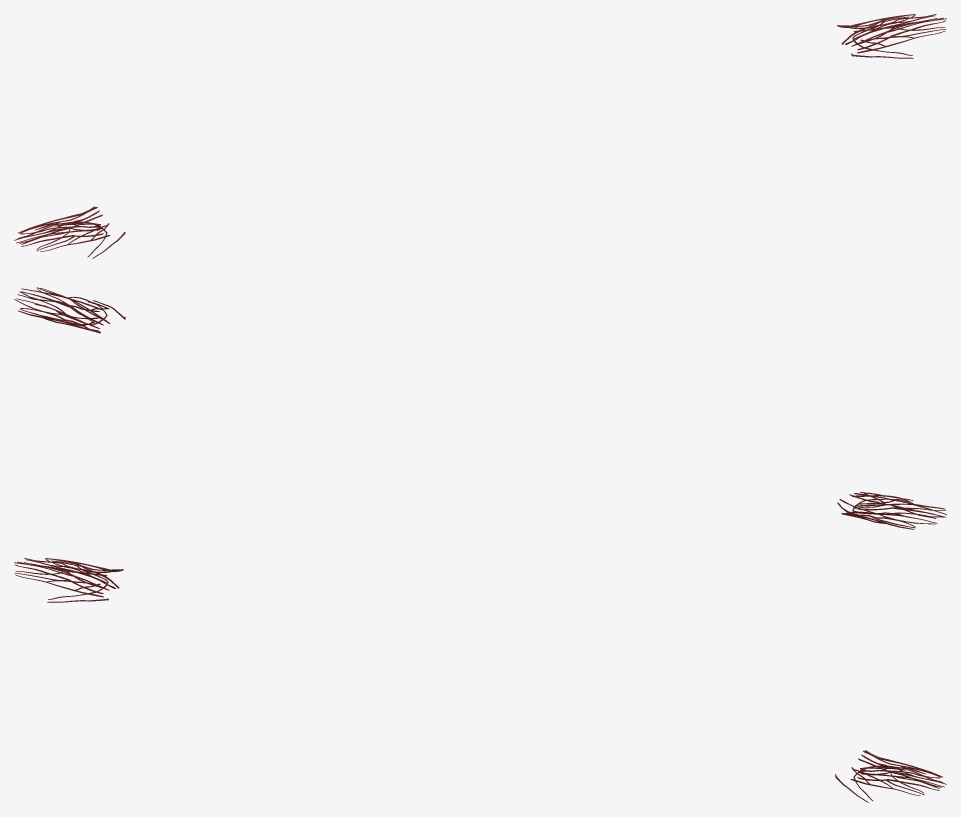
Rendered from Artérias Digitales.FBX.
The picture shows the model from 3 angles, top to bottom: view 1: azimuth 30°, elevation 25°; view 2: azimuth 150°, elevation 25°; view 3: azimuth 330°, elevation 25°; orthographic projection.
Visible parts, largest first — view 1: CS_Arterie; view 2: CS_Arterie; view 3: CS_Arterie.
Boxes of the visible parts, x1,y1,x2,y2 form: CS_Arterie: (14,14,946,258); CS_Arterie: (14,287,946,529); CS_Arterie: (14,558,946,802).
Bounding box in the file's own units: 5509 × 108 × 404.
